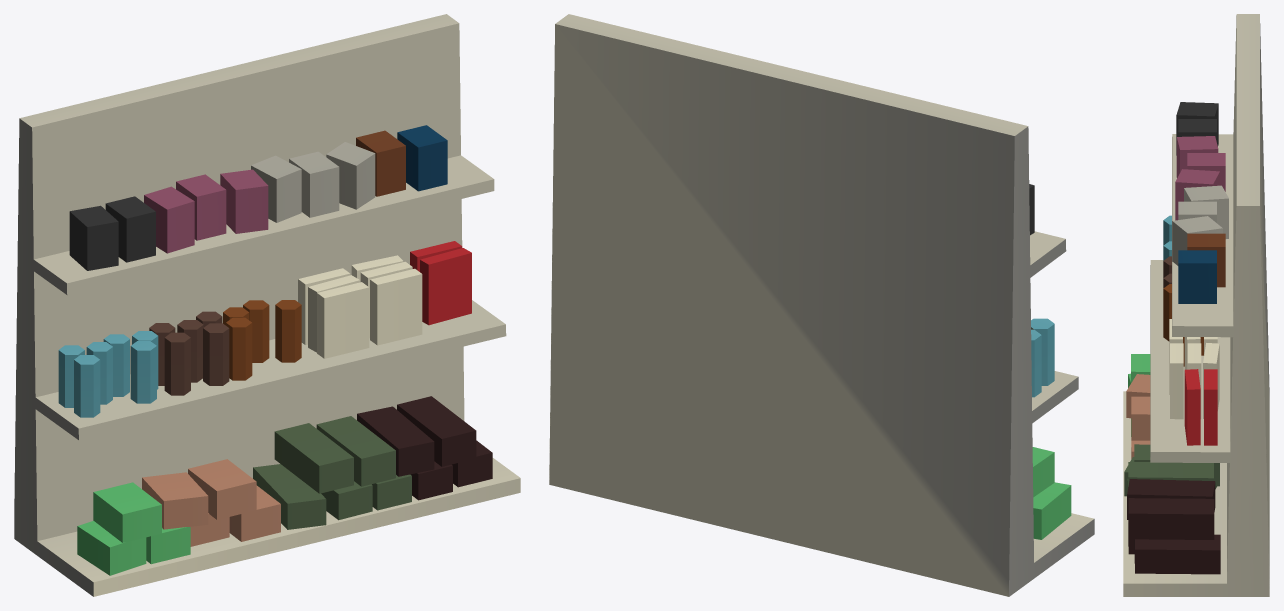
The model's file is B03_etale_02.fbx.
The picture shows the model from 3 angles, left to right: view 1: azimuth 30°, elevation 25°; view 2: azimuth 150°, elevation 25°; view 3: azimuth 270°, elevation 25°; orthographic projection. The views are drawn at different scales.
Parts seen in each view (by area): view 1: B03_etale_02; view 2: B03_etale_02; view 3: B03_etale_02.
Boxes of the visible parts, x1,y1,x2,y2 form: B03_etale_02: (14,14,520,596); B03_etale_02: (549,14,1094,596); B03_etale_02: (1123,14,1269,596).
Bounding box in the file's own units: 309 × 293 × 99.41.
